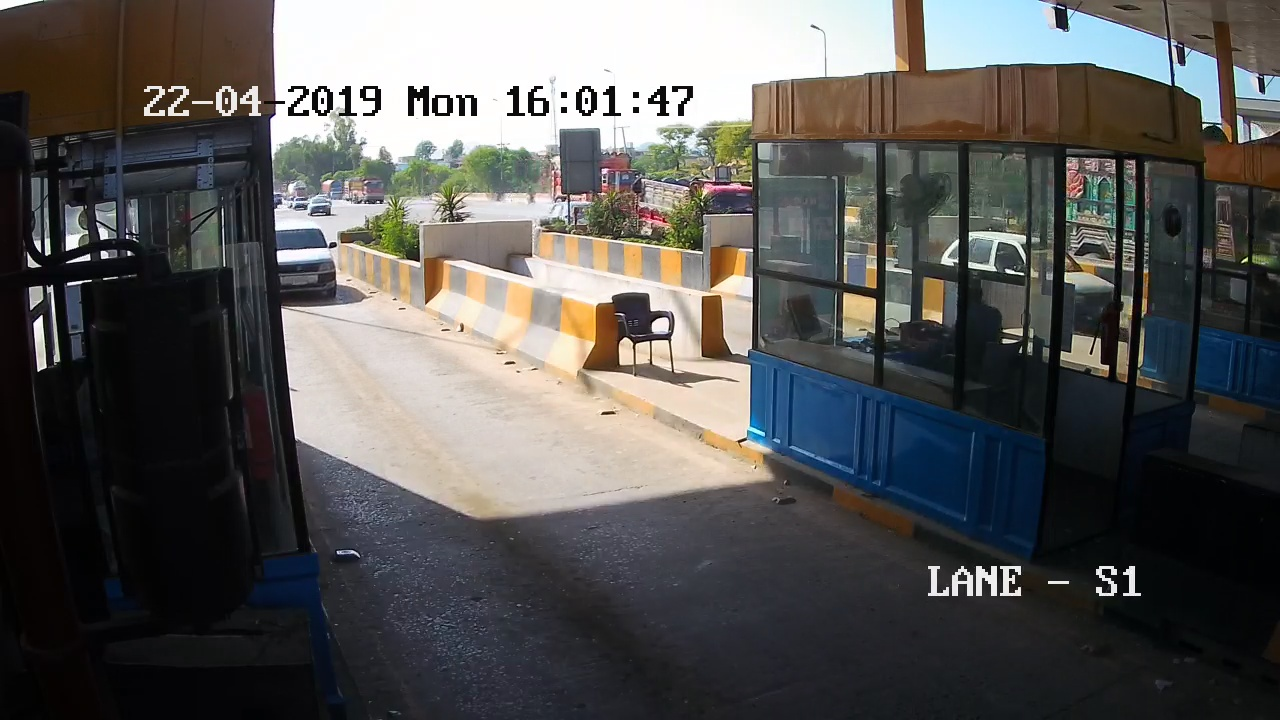car: (275, 231, 349, 313)
